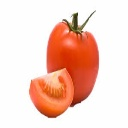tomato: (46, 21, 99, 108)
